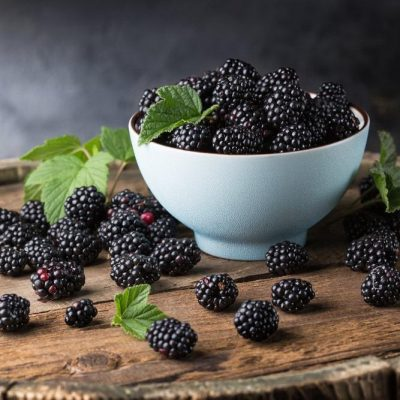Blackberry: (258, 85, 308, 125), (31, 262, 85, 298), (145, 320, 197, 355), (233, 300, 275, 343), (265, 240, 316, 274), (109, 255, 158, 287), (271, 283, 317, 316), (360, 269, 400, 304)
